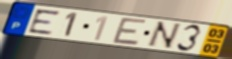1: (93, 15, 110, 42), (64, 12, 79, 38)
3: (175, 24, 206, 53)
E: (111, 16, 150, 47), (27, 8, 62, 36)
N: (145, 20, 184, 50)
